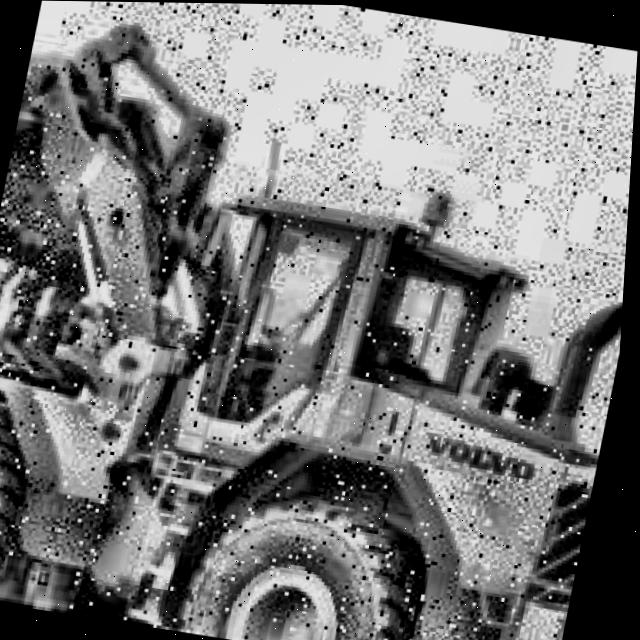buldozerpayloadergrader: (0, 1, 640, 640)
